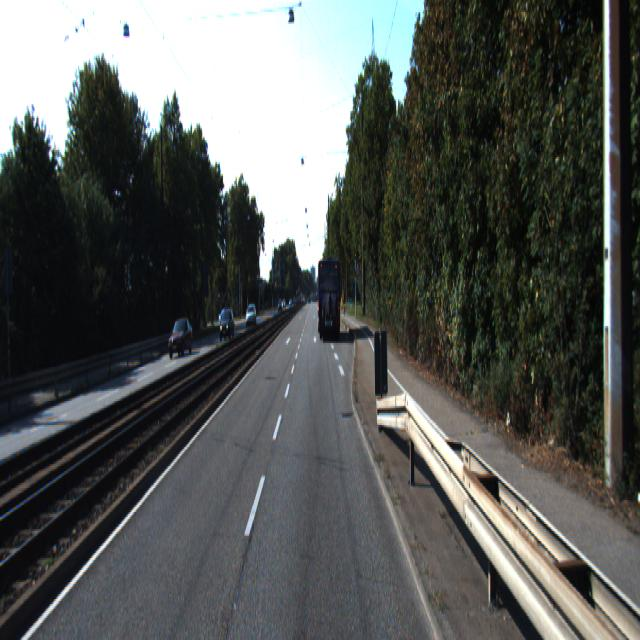Car: (318, 259, 342, 342), (167, 320, 194, 361)
